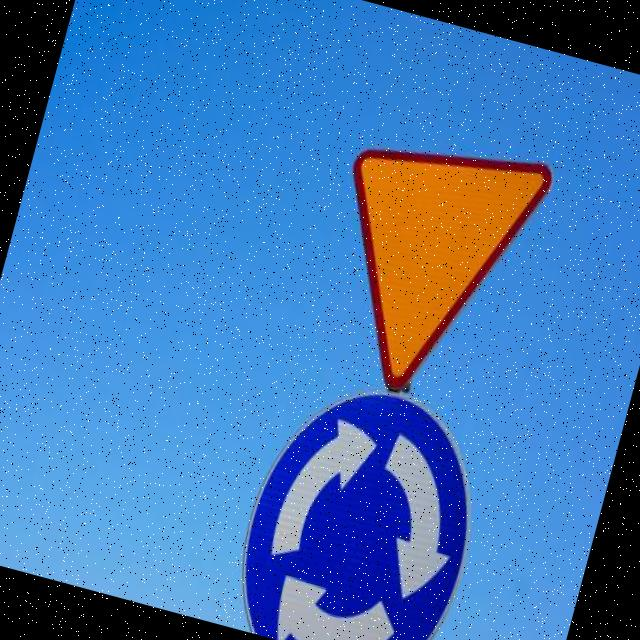round_about: (218, 363, 505, 640)
